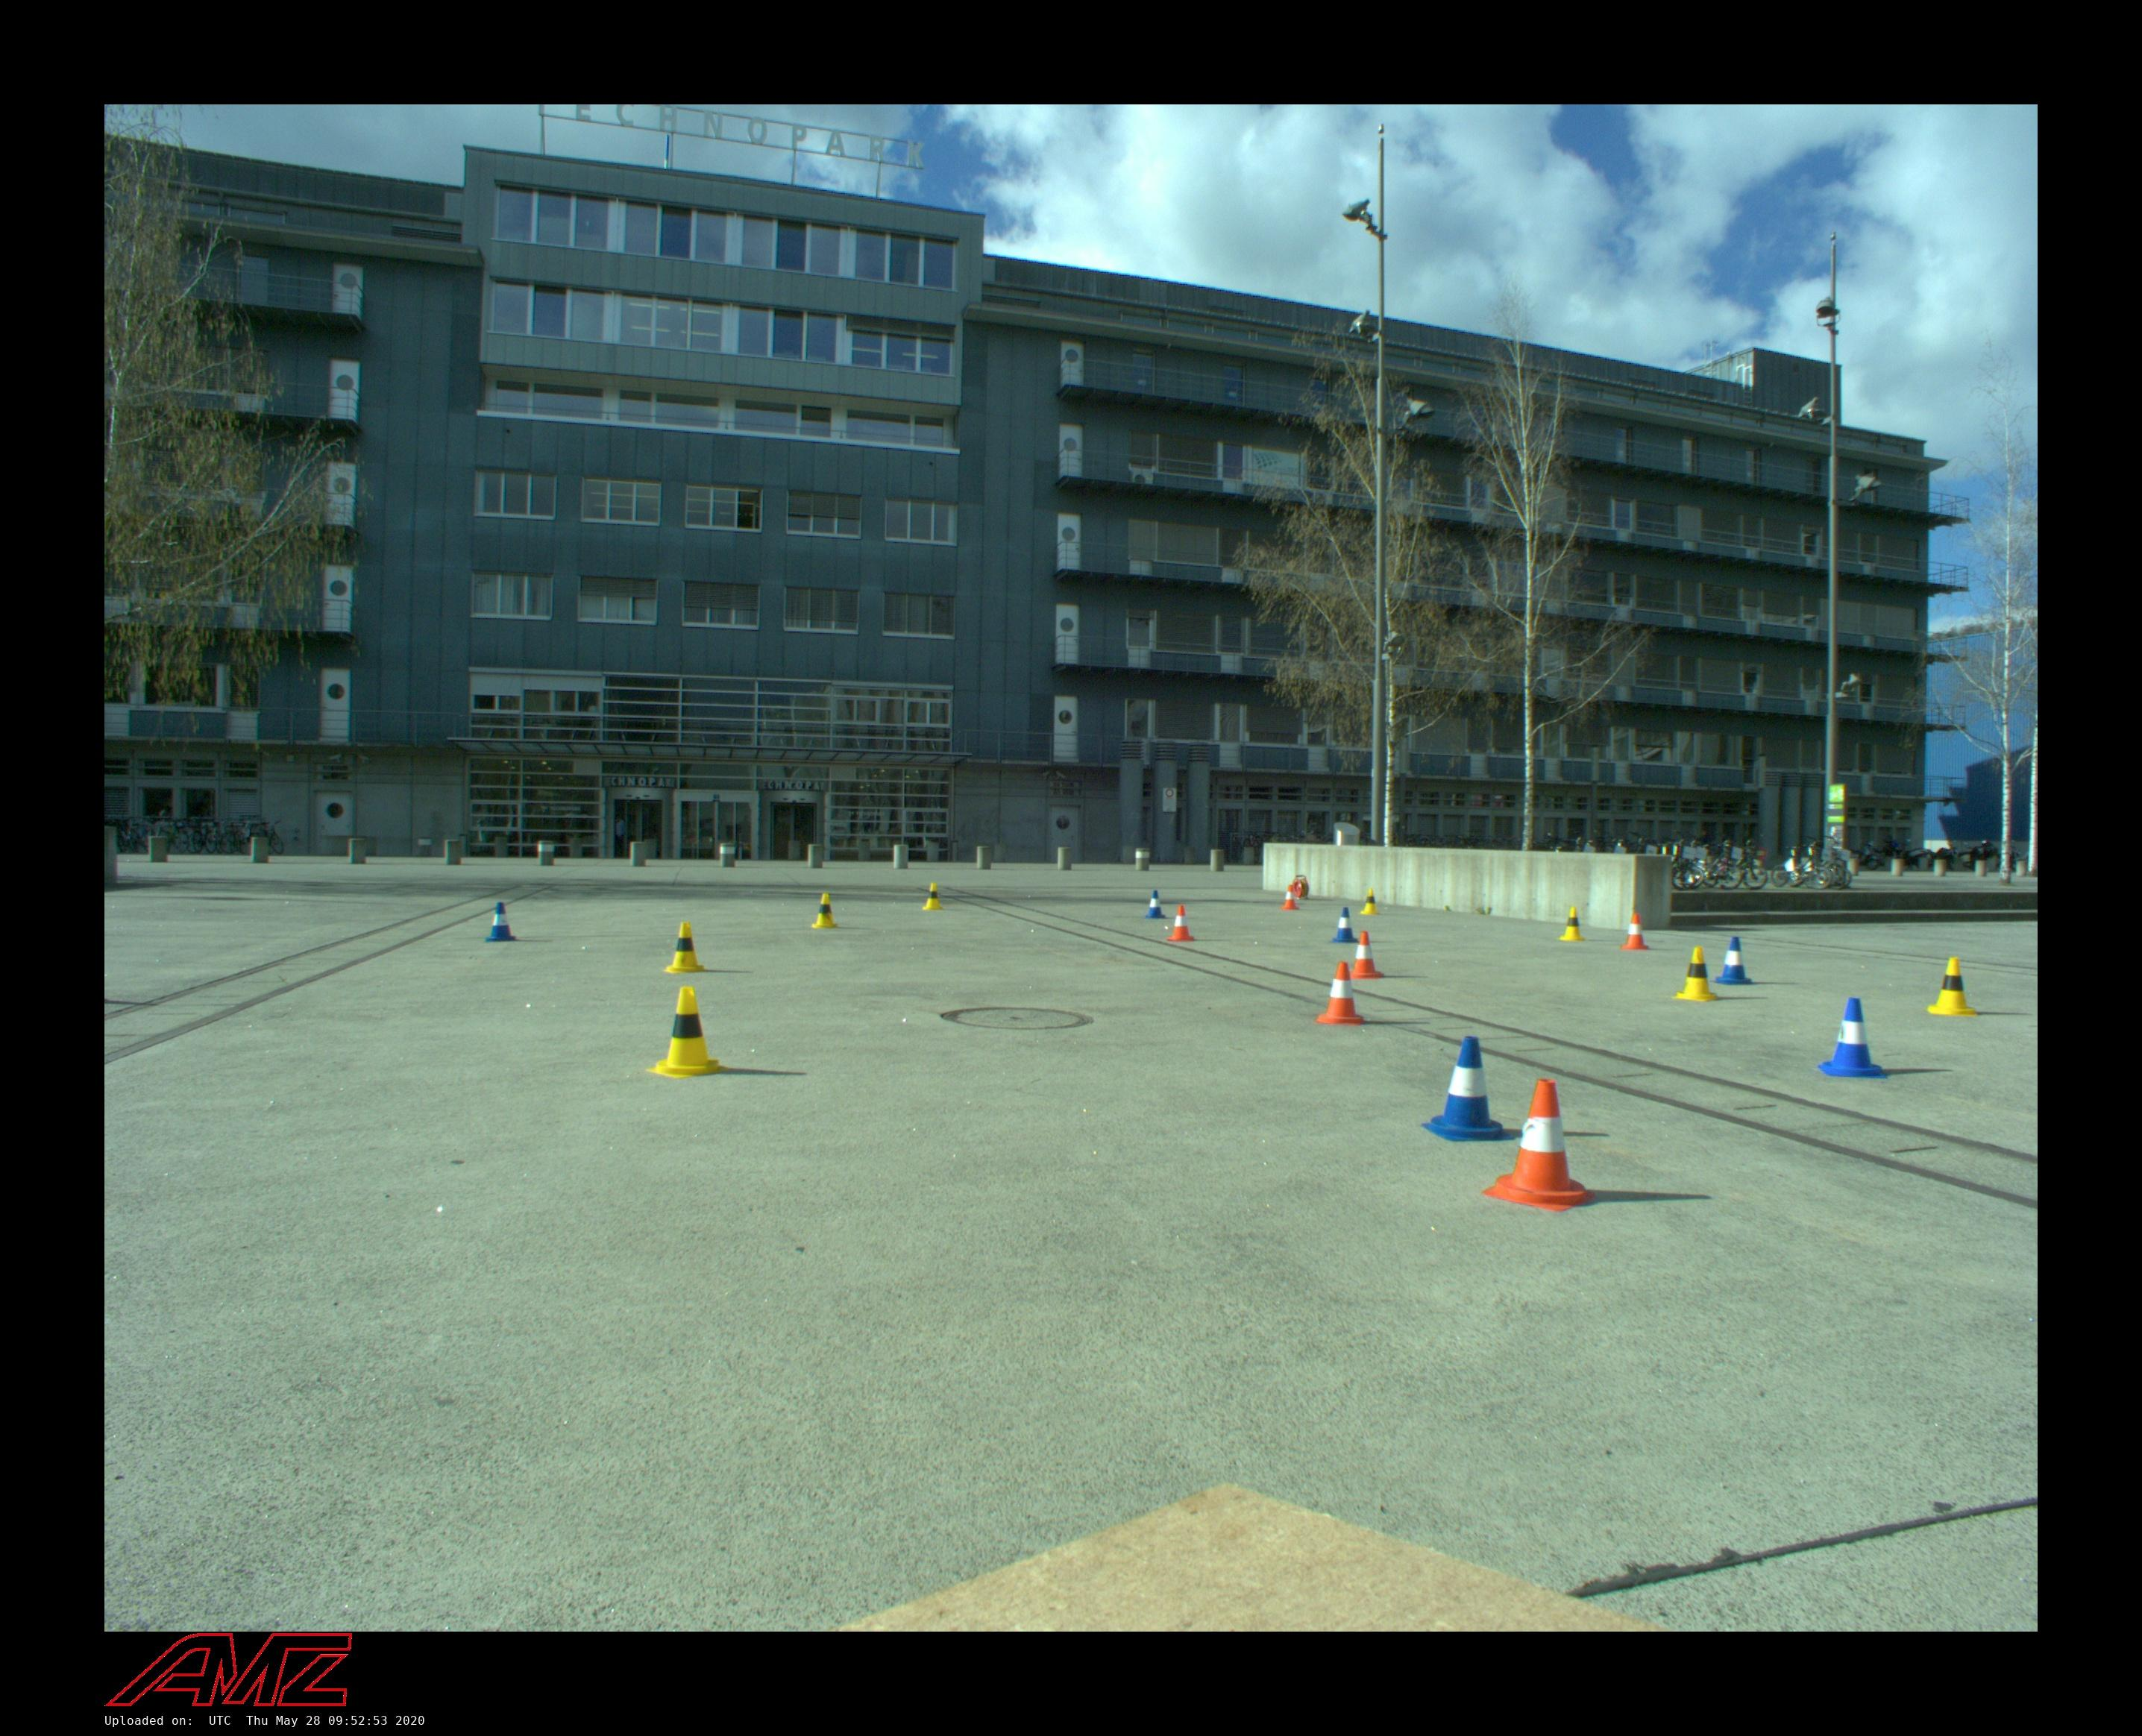blue_cone: (1421, 1036, 1517, 1143), (1816, 997, 1887, 1079), (1711, 937, 1754, 985), (485, 902, 517, 942), (1331, 907, 1362, 944), (1141, 891, 1169, 919)
orange_cone: (1483, 1077, 1596, 1213), (1315, 962, 1366, 1026), (1341, 930, 1385, 980), (1166, 905, 1196, 942), (1621, 914, 1649, 951), (1281, 886, 1300, 911)
yellow_cone: (647, 987, 728, 1081), (1928, 957, 1977, 1019), (1671, 946, 1719, 1003), (663, 921, 709, 974), (1557, 907, 1586, 942), (811, 893, 838, 930), (921, 882, 944, 911), (1359, 887, 1382, 916)
